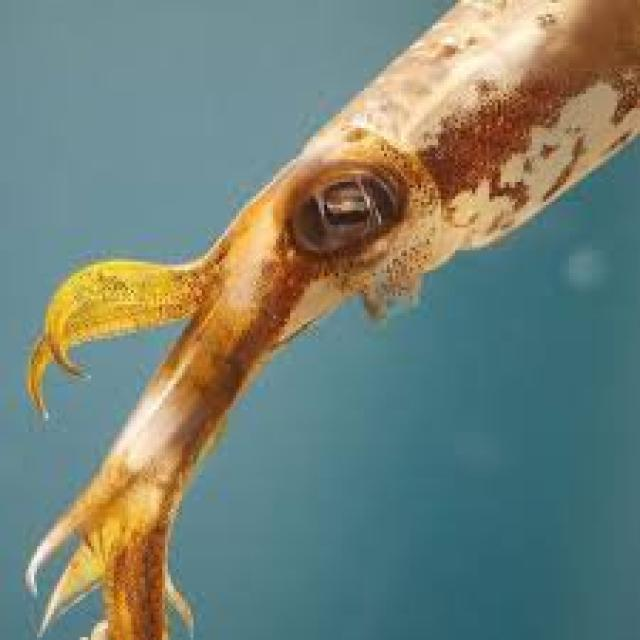squid: (26, 0, 637, 637)
